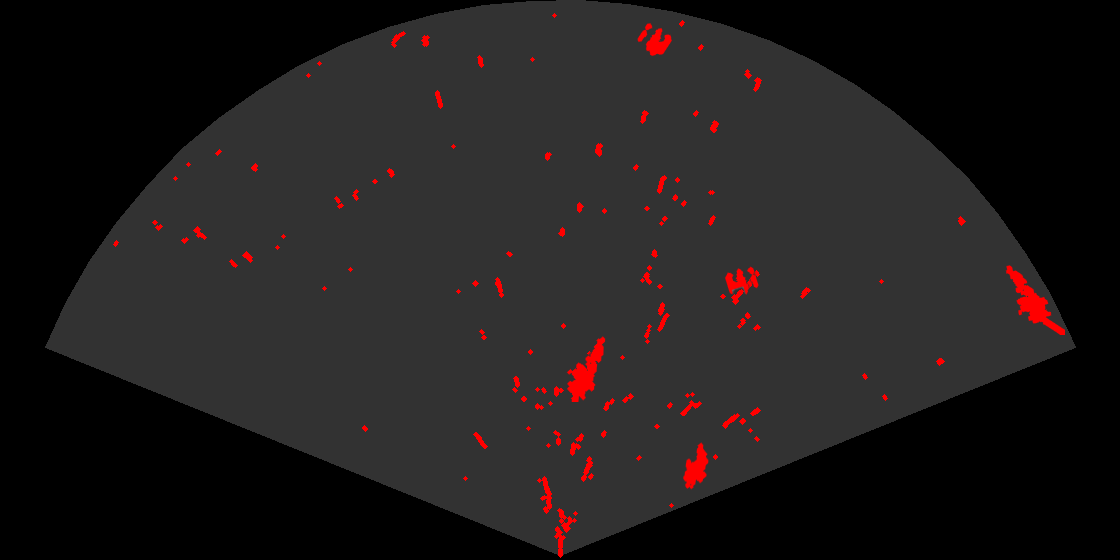AUV: (682, 441, 710, 491)
ball: (636, 22, 673, 58), (723, 265, 760, 296)
frogman: (1004, 264, 1065, 335), (565, 335, 607, 402)
